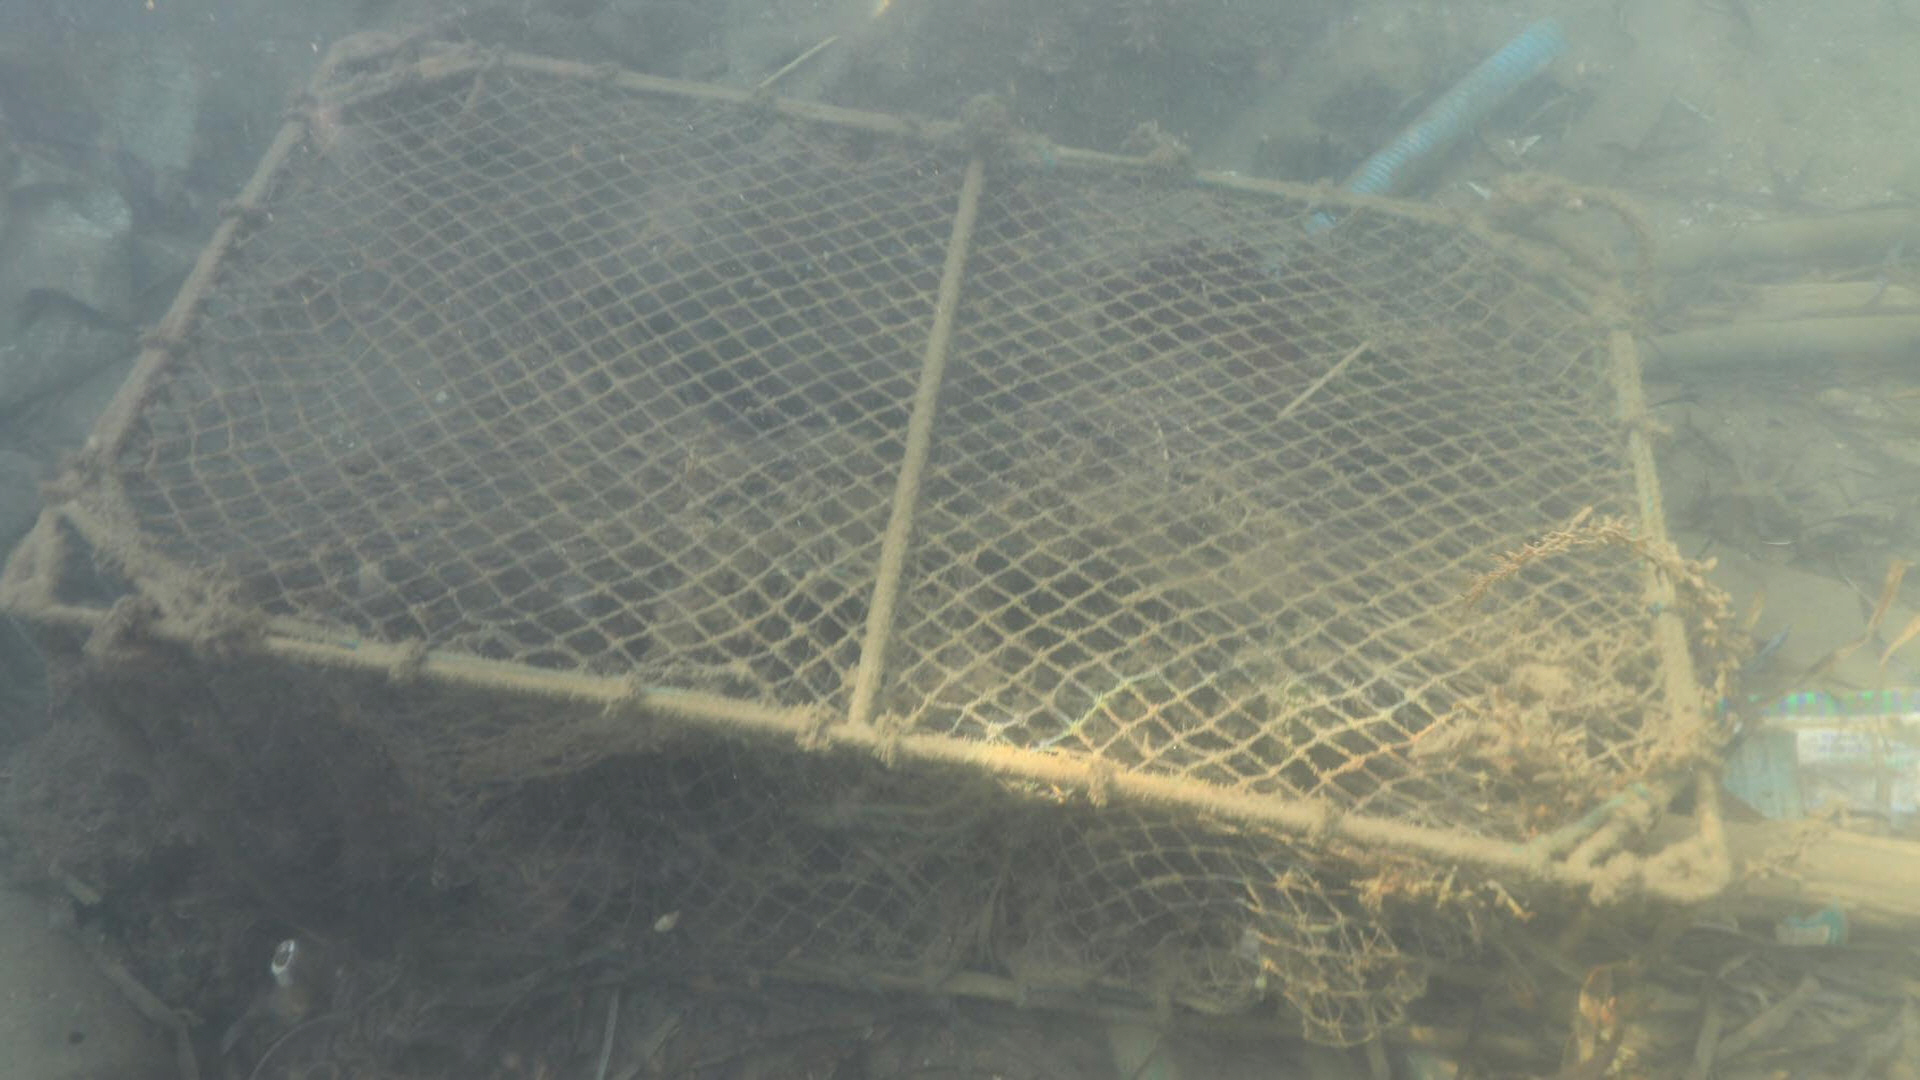rectangular fish trap: (0, 32, 1734, 1048)
